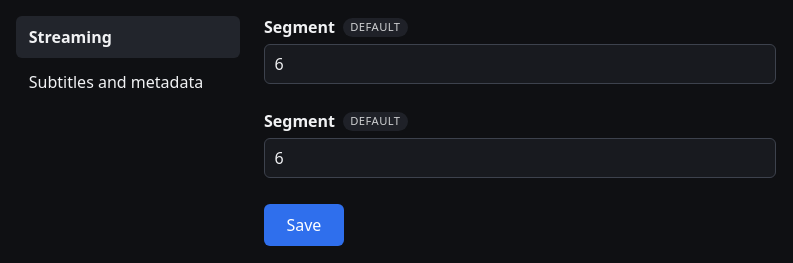
Test: SettingsPage › shows only the selected category
Expected: the text "TMDB" is not shown
Click the button "Subtitles and metadata": (128, 82) left=16, top=62, right=240, bottom=103
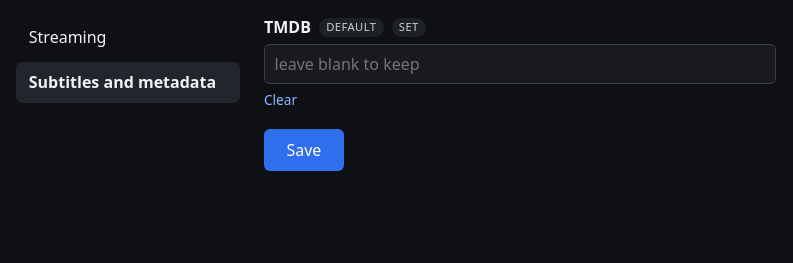
Expected: the text "TMDB" is shown, left=264, top=16, right=311, bottom=38
Expected: the text "Segment" is gone
